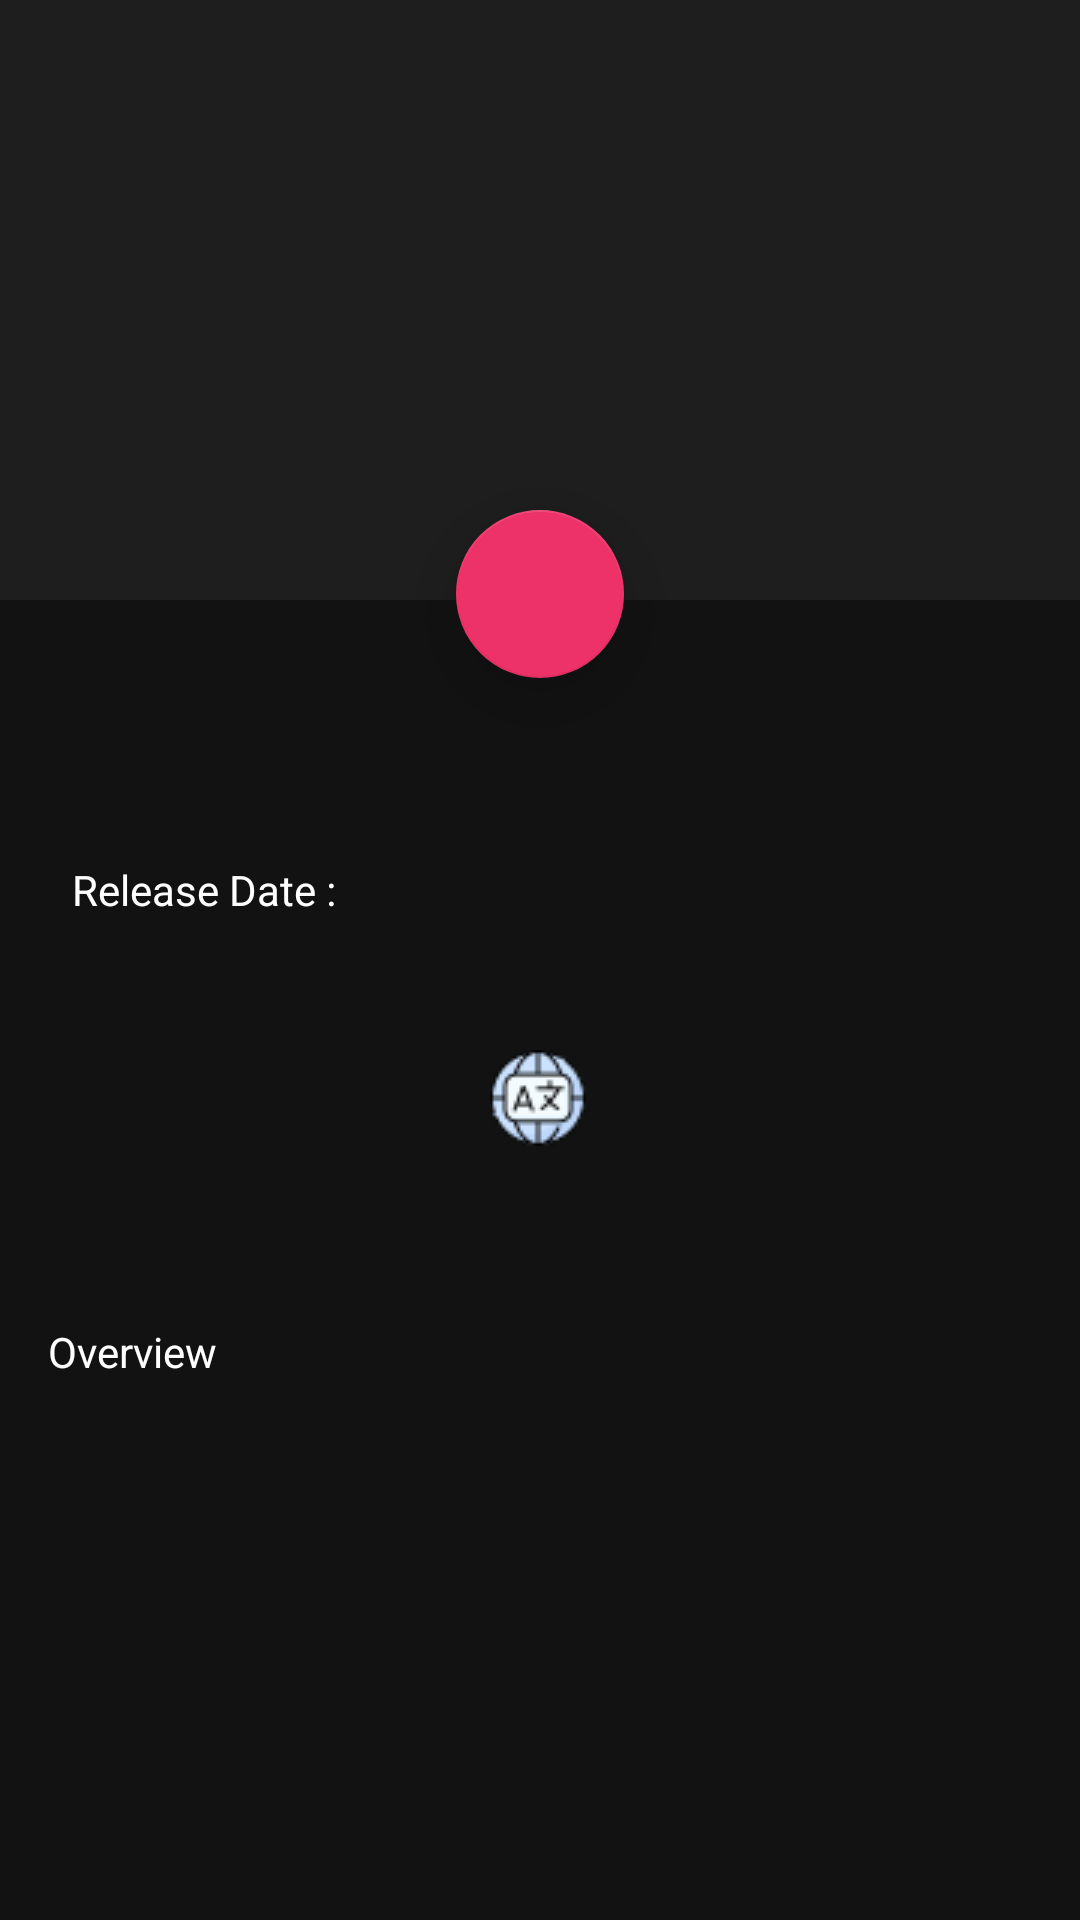

Screen size 1080px×1920px. Icon name, then its center in pixels as point (x, y):
language: point (538, 1098)
